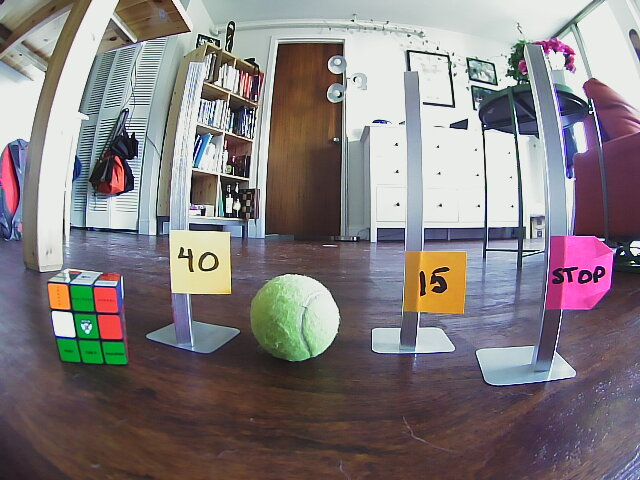15: (406, 253, 465, 311)
40: (172, 233, 229, 291)
ball: (250, 275, 341, 360)
cube: (46, 268, 132, 365)
stop: (549, 240, 611, 306)
